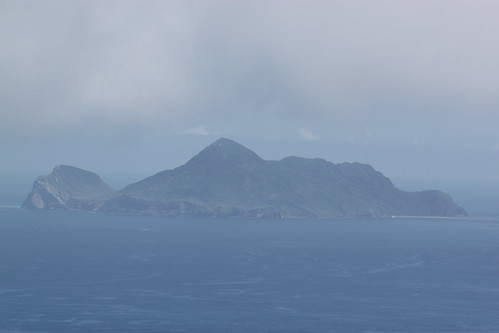turtleIslandLeft: (24, 129, 476, 219)
